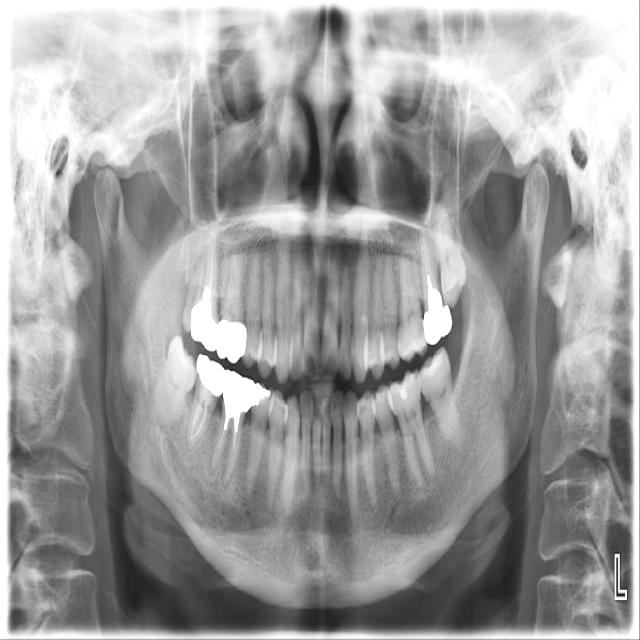Crown: (190, 301, 247, 363), (196, 354, 227, 398), (423, 304, 452, 345)
Filling: (224, 370, 274, 414), (389, 373, 416, 401)
Root Canal Treatment: (226, 431, 237, 479), (214, 427, 226, 467), (192, 407, 207, 437), (191, 399, 200, 438), (209, 241, 214, 288), (423, 234, 428, 271)
impacted tooth: (150, 335, 199, 437), (427, 198, 468, 312)
